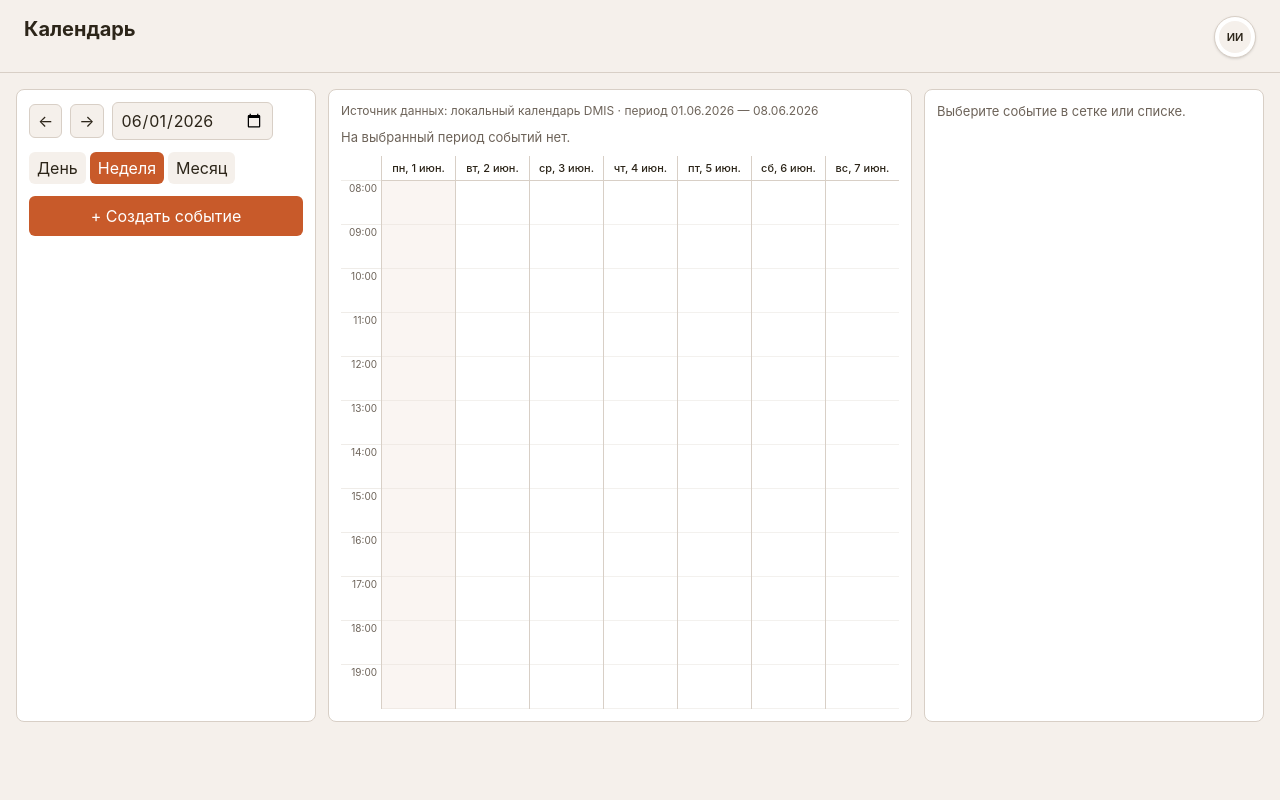
Test: CalendarPage — time overlap warning › shows warning in create form when selected interval intersects another event
The image size is (1280, 800).
Click the button "+ Создать событие" at (166, 216), box [29,196,303,236]
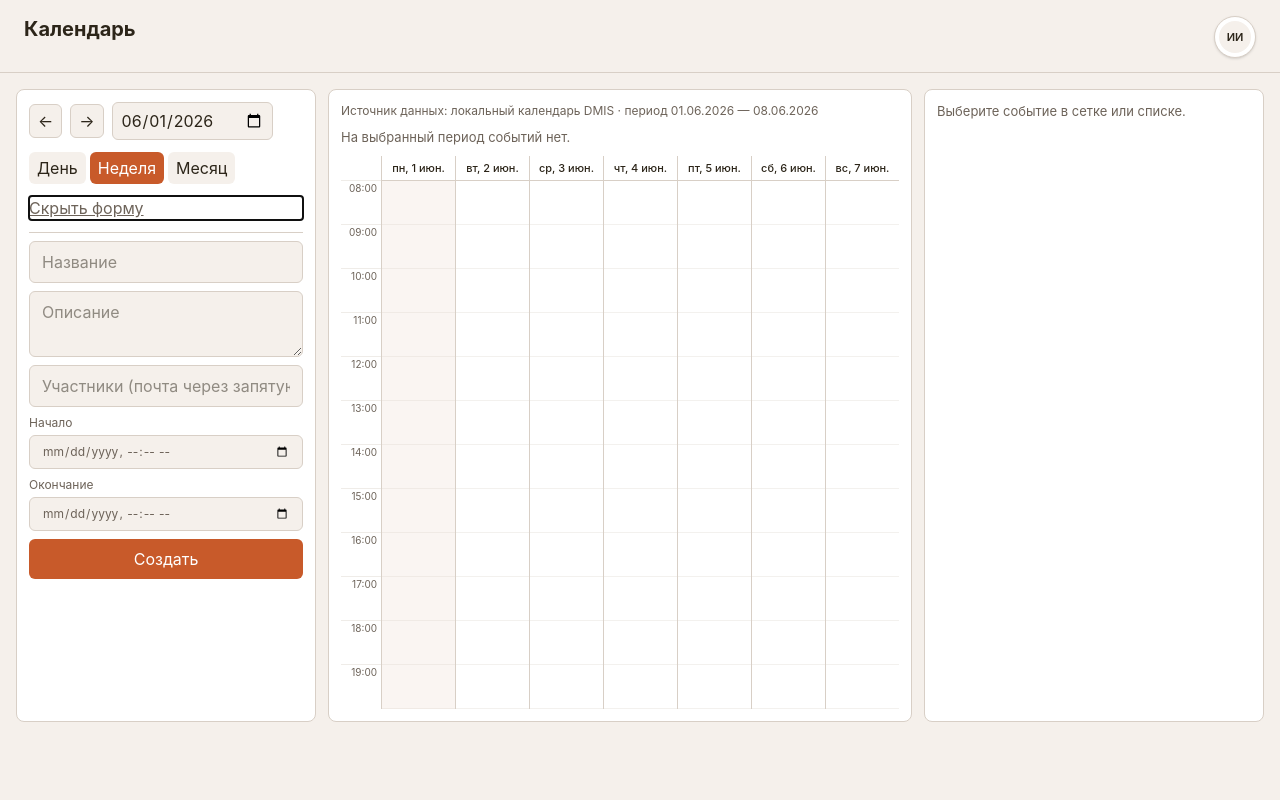
Type "2026-05-20T10:30" into the field named "начало события" at (166, 452), box [29,435,303,469]
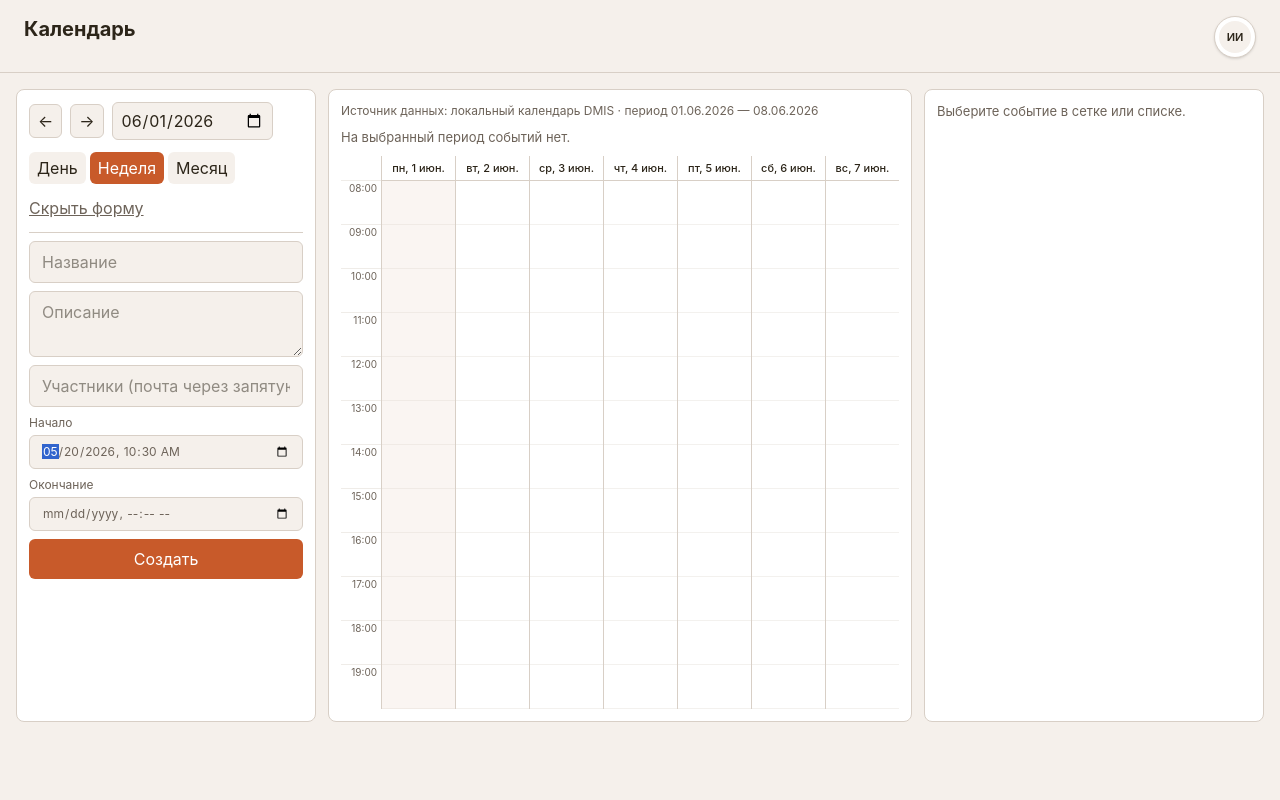
Type "2026-05-20T11:30" into the field named "окончание события" at (166, 514), box [29,497,303,531]
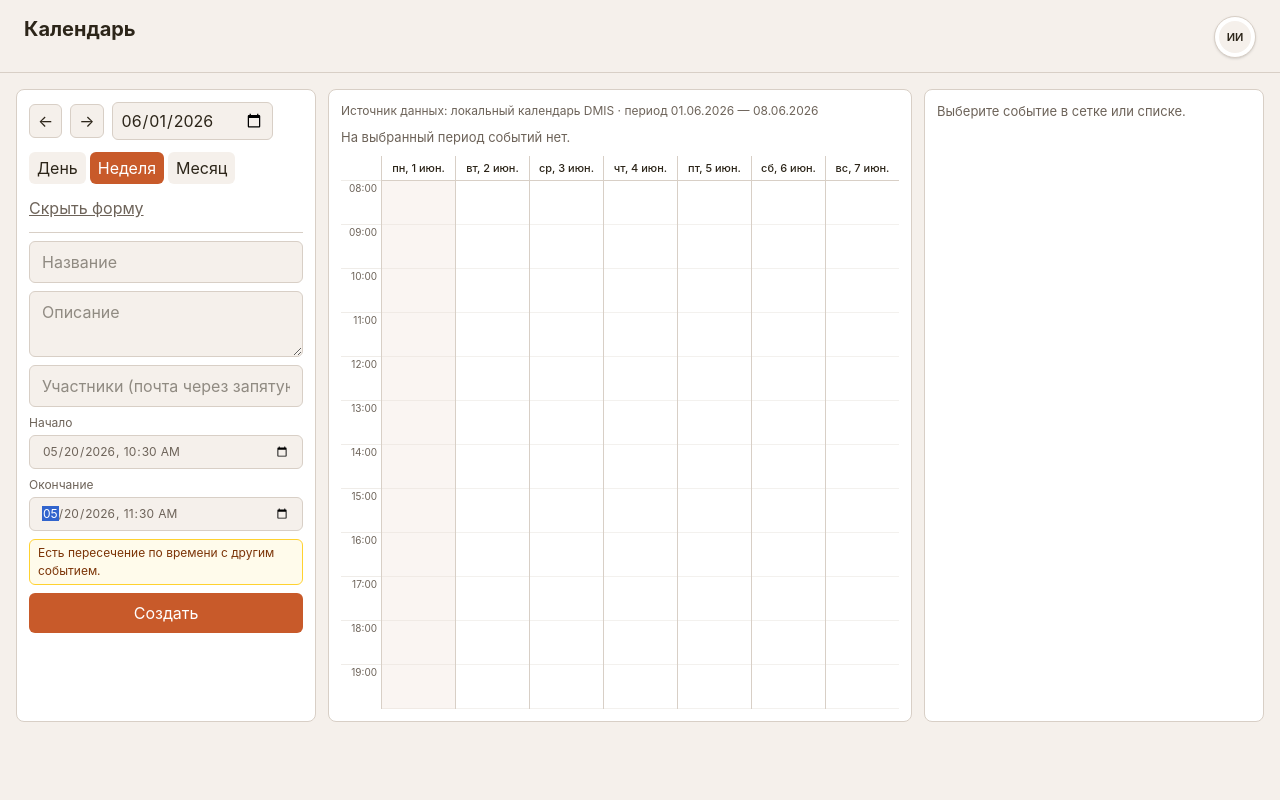
Check: the text "Есть пересечение по времени с другим событием." is shown, box [29,539,303,585]
